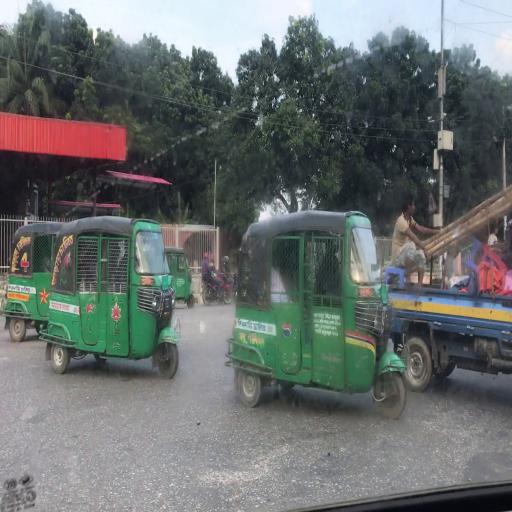motorbike: (202, 273, 232, 309)
pickup: (387, 261, 512, 404)
three wheelers (CNG): (239, 212, 388, 418), (50, 216, 181, 376), (1, 223, 51, 346), (170, 247, 198, 314)
